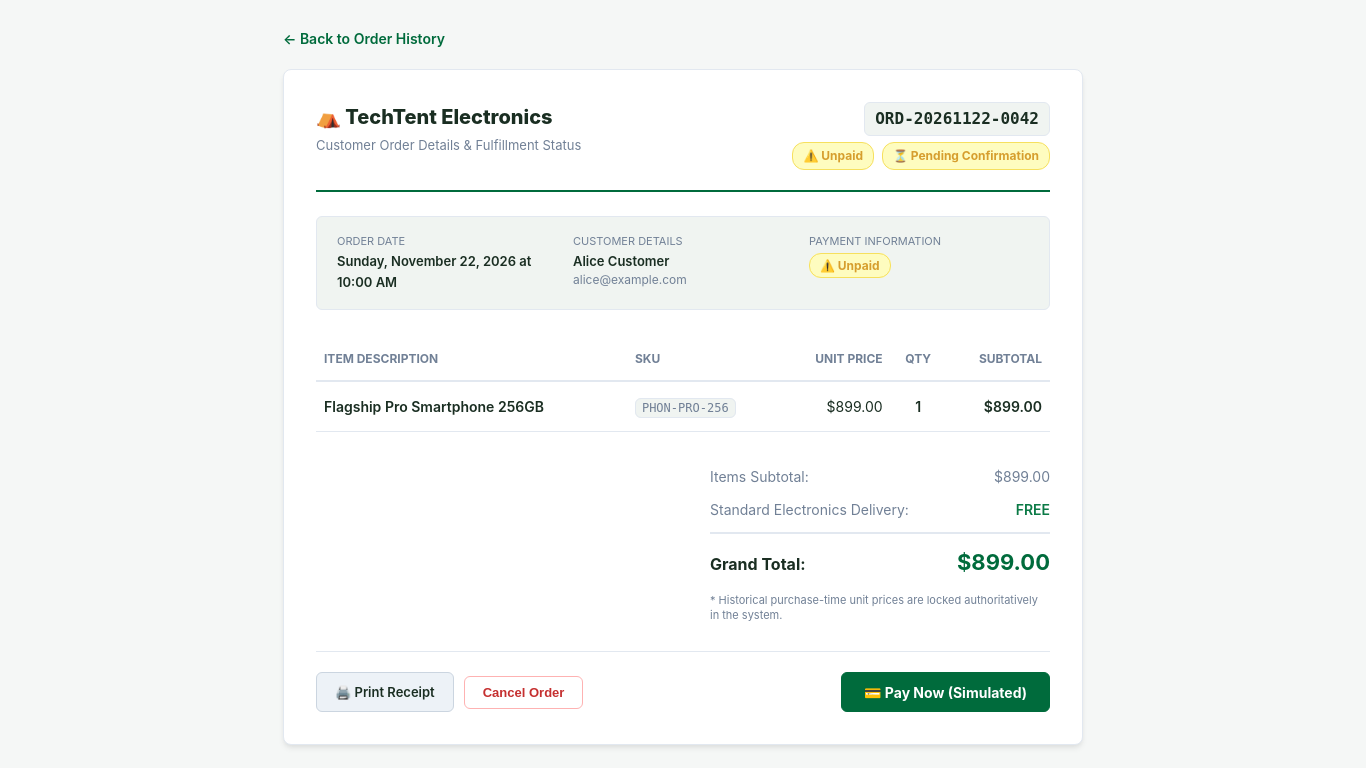
Test case: Feature 7: Customer Order Cancellation Component (F-07) › opens cancellation modal on button click and allows closing with 'Keep Order'
Expected: the text "ORD-20261122-0042" is shown, [864,102,1050,136]
Click the button with test id "cancel-order-btn": (524, 692) [464,676,583,709]
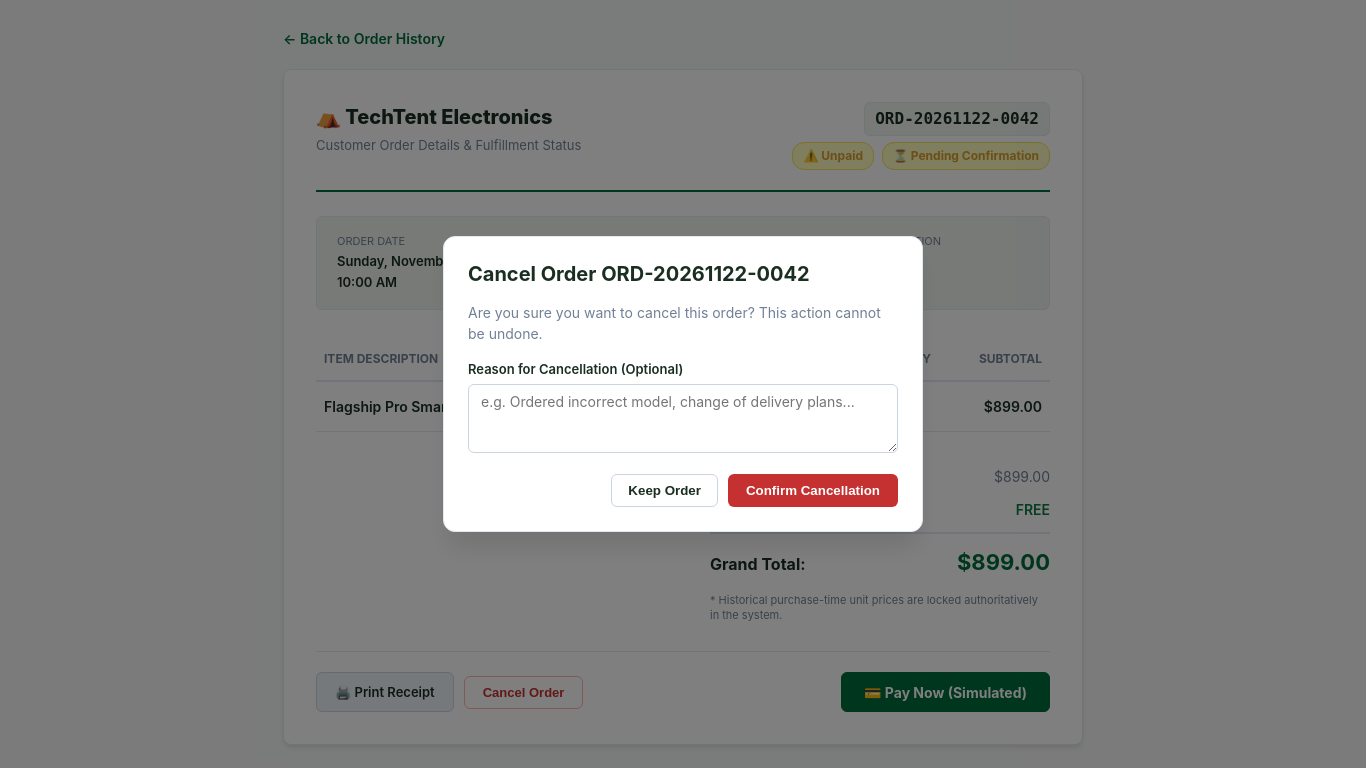
Now the element with test id "cancel-order-modal" is shown
Now the text "Are you sure you want to cancel this order?" is shown, box [468,304,881,342]
Click the button "Keep Order": (665, 490) [611,474,718,507]
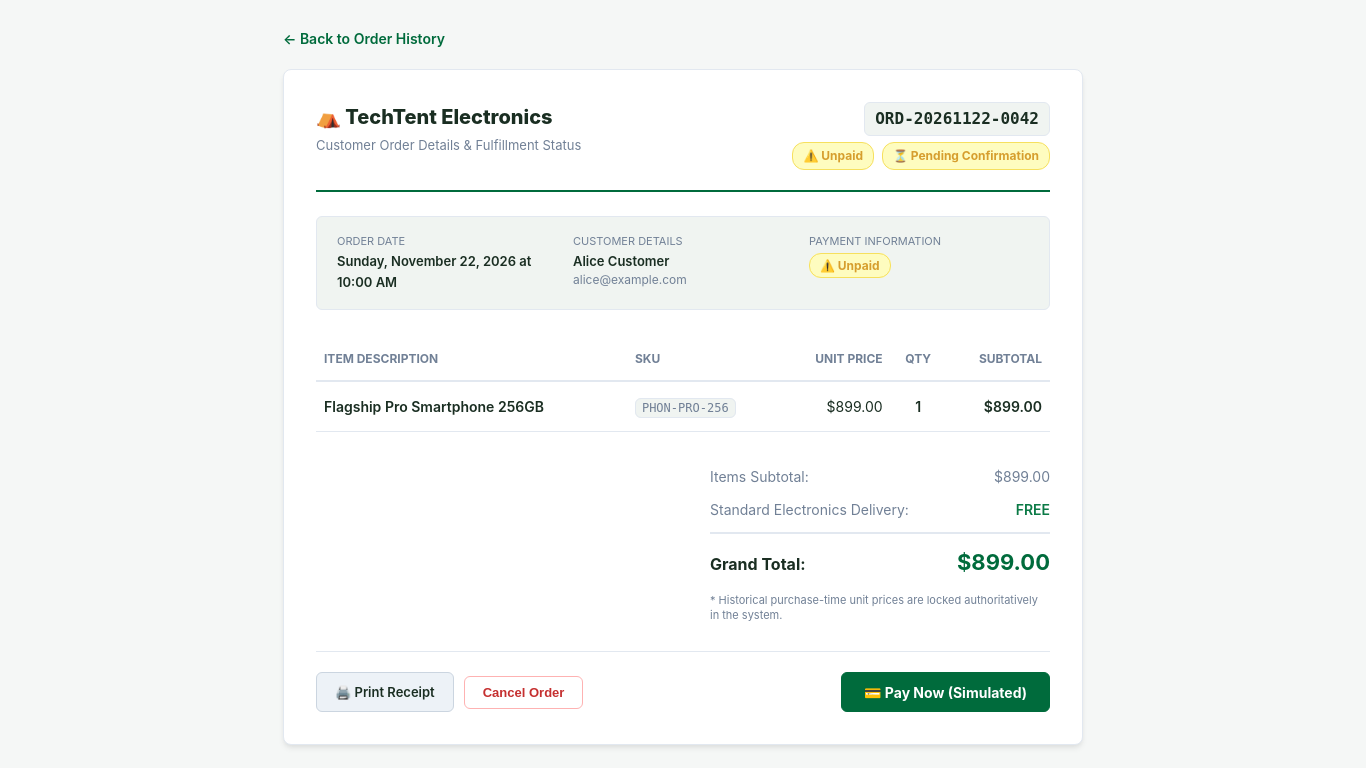
Now the element with test id "cancel-order-modal" is gone
